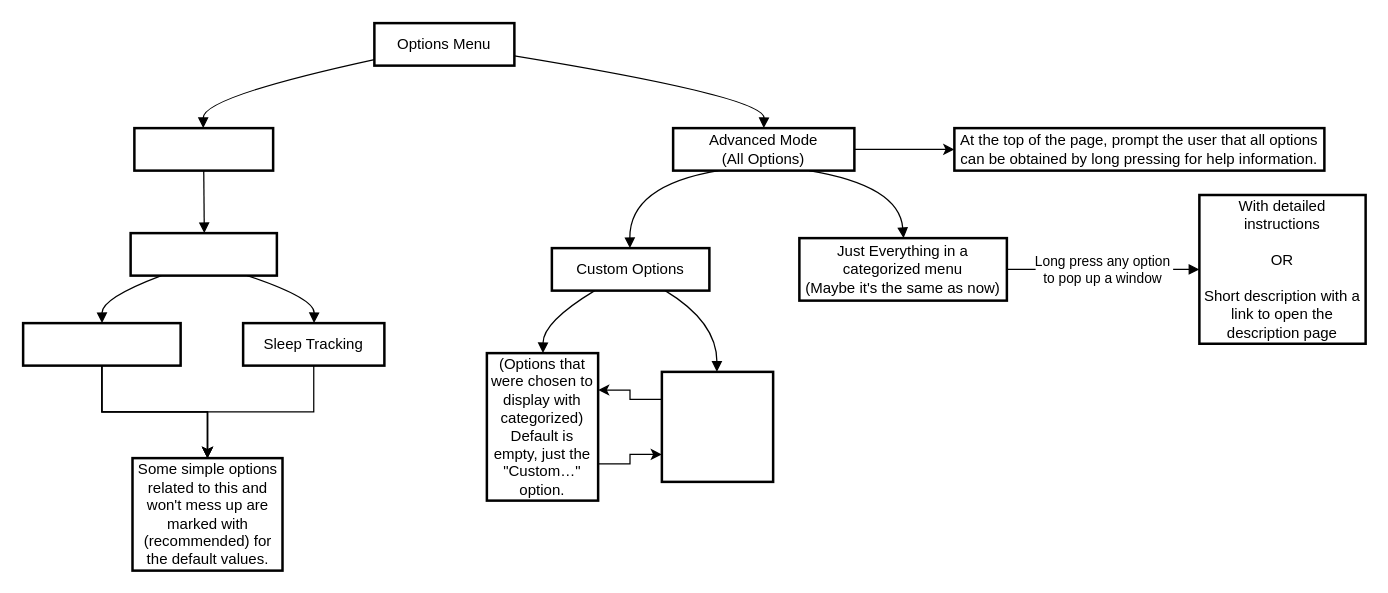
The diagram is 1388 pixels wide and 593 high, and some of its shapes have lost their labels. Here are the shapes that lost their labels. From the top down, the centre of each, then its label:
the point at 203,148: Simple Mode (Basic Options)
the point at 203,253: Target Usage
the point at 101,343: Alarms
the point at 717,426: Display all available options with combo boxes in a categorized menu
